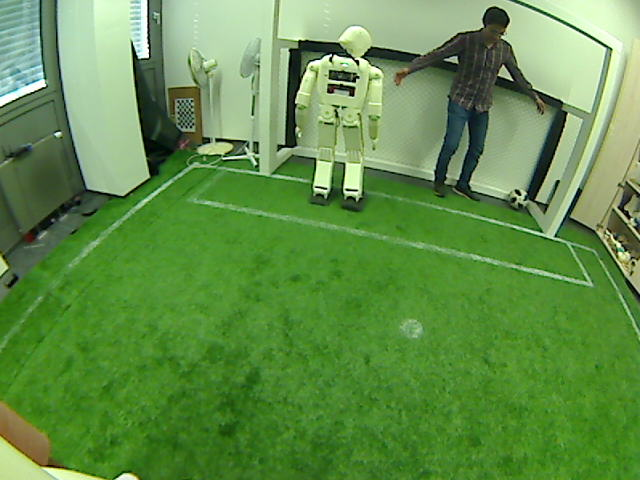ball: (507, 187, 529, 211)
goalpost: (541, 200, 560, 239), (257, 141, 274, 175)
robot: (303, 131, 369, 206)
